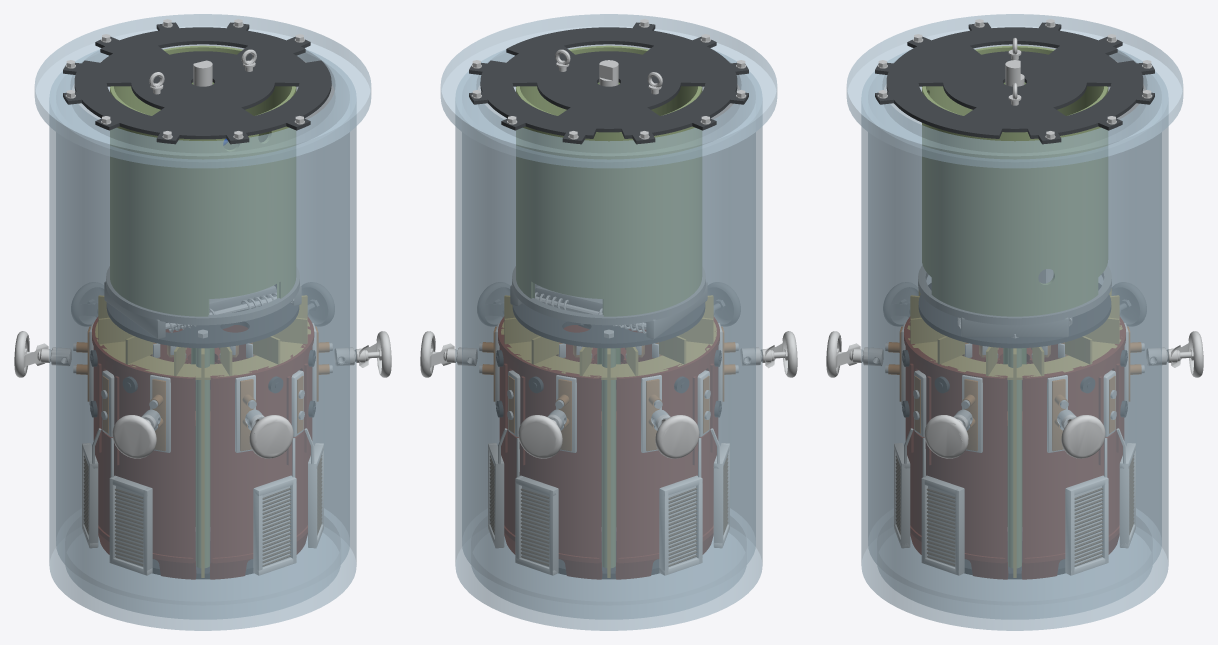
The model's file is cm-insert.glb.
3 views of the same model, side by side, from view 1: azimuth 30°, elevation 25°; view 2: azimuth 150°, elevation 25°; view 3: azimuth 270°, elevation 25° (orthographic).
Parts seen in each view (by area): view 1: comp, ins-frame, resistor, comp-term, accum, ins-term, arc-fixed, ins-shaft; view 2: comp, ins-frame, resistor, comp-term, accum, ins-term, arc-fixed, ins-shaft; view 3: comp, ins-frame, resistor, comp-term, accum, ins-term, arc-fixed, ins-shaft.
Part boxes in pixels (box(x1,y1,x2,y2)): comp: box(34, 14, 371, 630); ins-frame: box(63, 19, 331, 579); resistor: box(82, 428, 323, 575); comp-term: box(14, 282, 391, 458); accum: box(104, 281, 301, 347); ins-term: box(73, 323, 332, 452); arc-fixed: box(90, 342, 315, 436); ins-shaft: box(191, 60, 227, 363); comp: box(440, 14, 777, 630); ins-frame: box(469, 19, 748, 579); resistor: box(488, 428, 729, 575); comp-term: box(420, 282, 797, 458); accum: box(510, 281, 707, 347); ins-term: box(479, 323, 738, 452); arc-fixed: box(496, 342, 721, 436); ins-shaft: box(597, 60, 620, 363); comp: box(846, 14, 1183, 630); ins-frame: box(875, 19, 1154, 579); resistor: box(894, 428, 1135, 575); comp-term: box(826, 282, 1203, 458); accum: box(919, 269, 1110, 347); ins-term: box(885, 323, 1144, 452); arc-fixed: box(902, 342, 1127, 436); ins-shaft: box(1003, 60, 1026, 363).
Bounding box in the file's own units: 0.5445 × 0.8675 × 0.5872.
